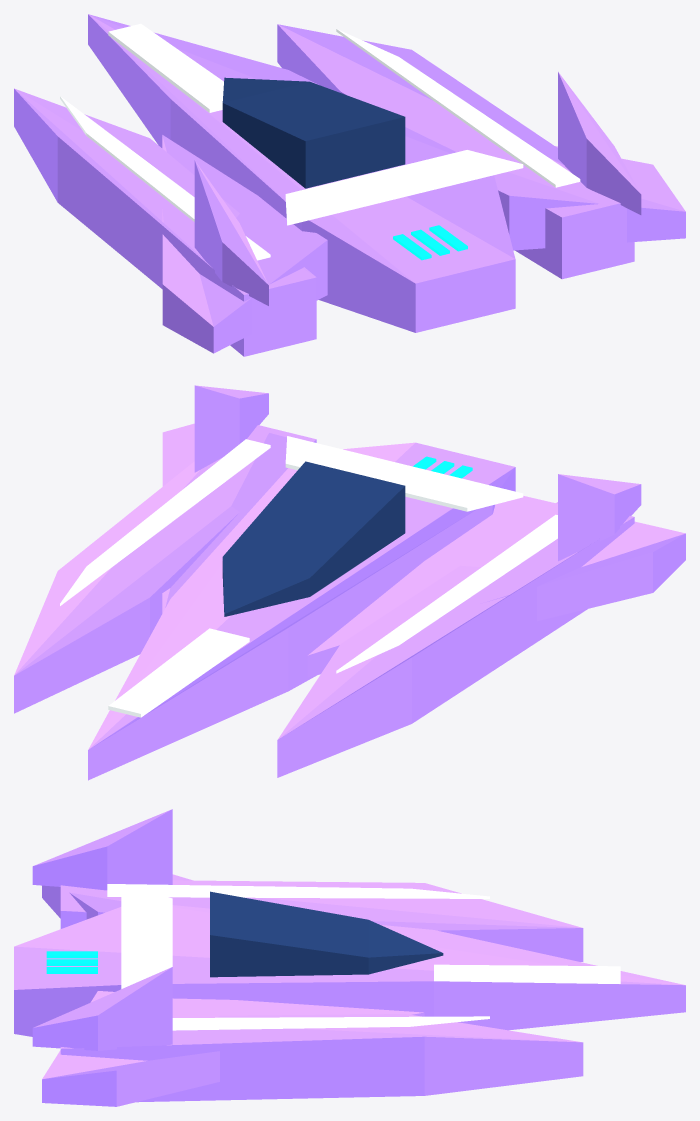
File: hydrofoil-3.glb
3 renders of one model, top to bottom at view 1: azimuth 30°, elevation 25°; view 2: azimuth 150°, elevation 25°; view 3: azimuth 270°, elevation 25°, orthographic. The views are drawn at different scales.
Visible parts, largest first — view 1: BW-01 Split Delta; view 2: BW-01 Split Delta; view 3: BW-01 Split Delta.
Boxes of the visible parts, box(x1,y1,x2,y2) form: BW-01 Split Delta: box(14, 14, 685, 356); BW-01 Split Delta: box(14, 385, 685, 780); BW-01 Split Delta: box(14, 809, 685, 1106).
Size of the model in its own units: 5.4 by 1.55 by 7.2.
